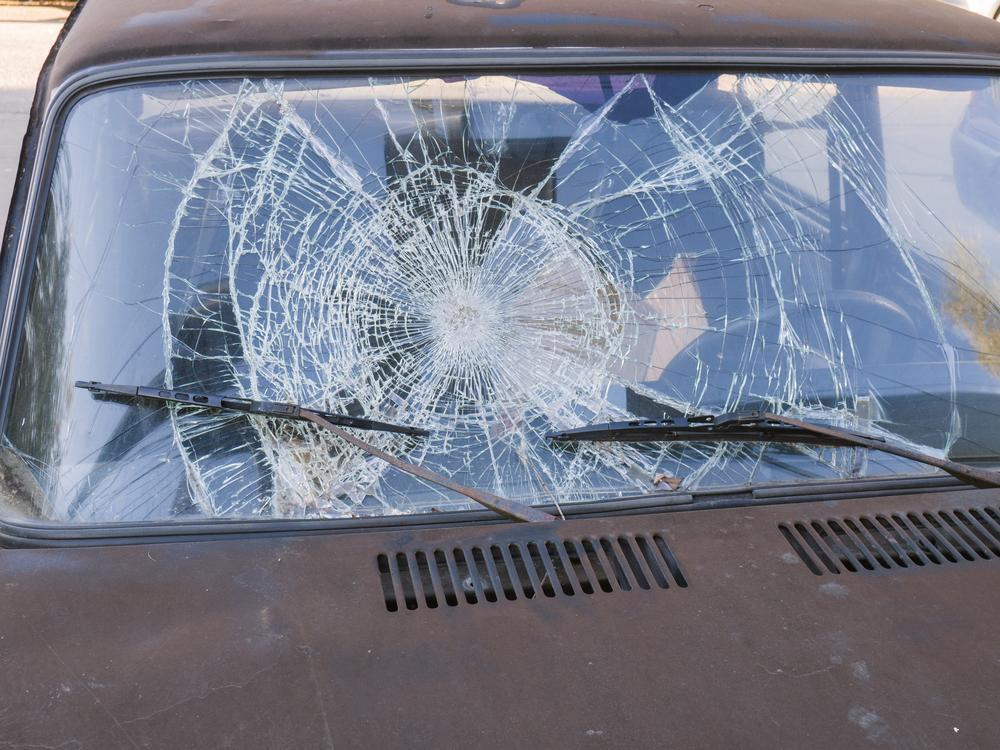glass shatter: (0, 64, 1000, 526)
